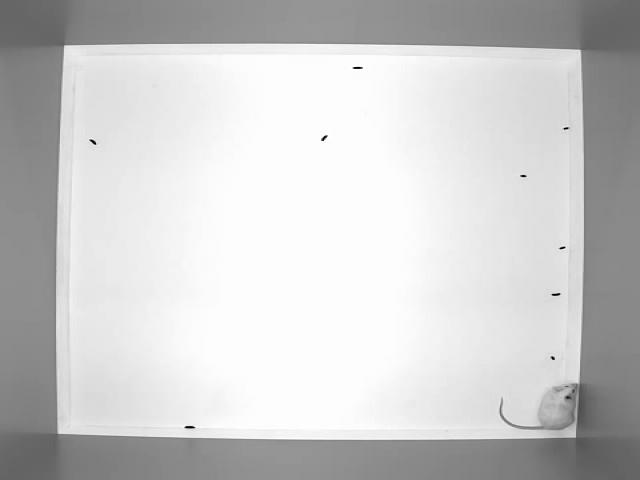Tikus: (498, 374, 582, 434)
